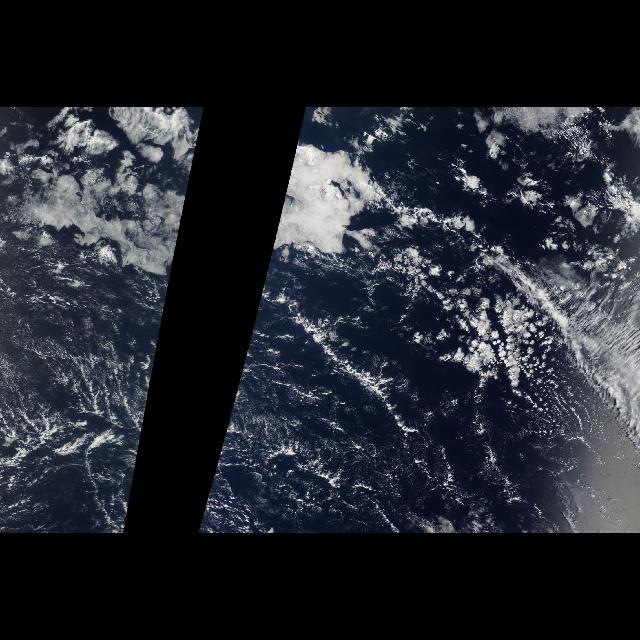Flower: (384, 239, 622, 446)
Sugar: (0, 280, 170, 530), (198, 286, 370, 530)
